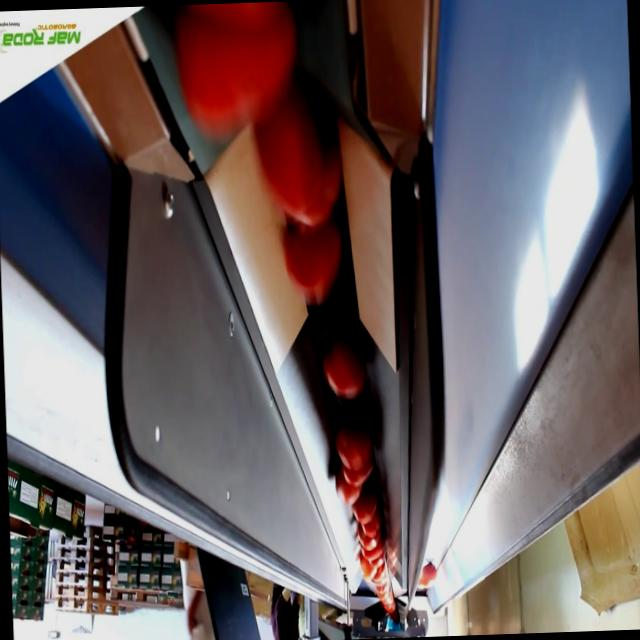Tomato: (176, 1, 294, 139), (253, 109, 316, 216), (279, 223, 337, 299), (322, 334, 366, 398), (310, 140, 340, 222), (334, 416, 372, 474), (352, 490, 378, 524), (334, 471, 358, 502), (420, 564, 438, 596), (357, 524, 381, 548), (362, 552, 375, 585)
